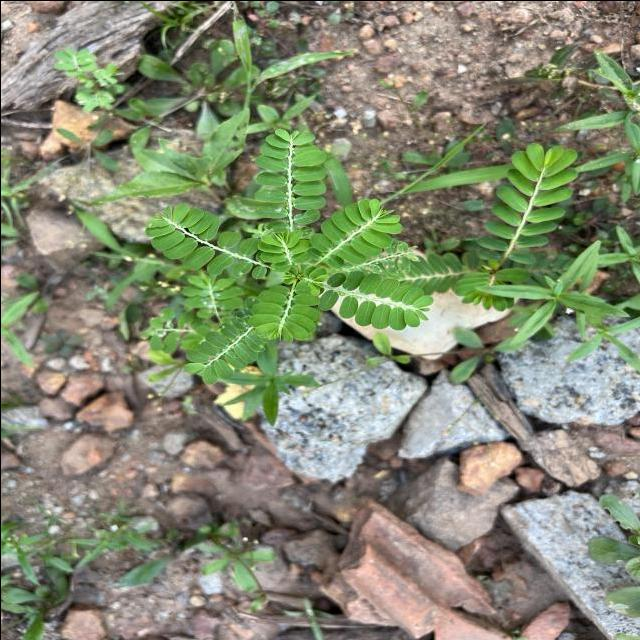Phyllanthus niruri: (474, 139, 577, 259), (144, 201, 270, 280), (251, 126, 327, 238), (318, 268, 435, 330), (309, 196, 404, 268), (183, 311, 263, 384), (250, 284, 320, 345), (254, 227, 314, 272)
